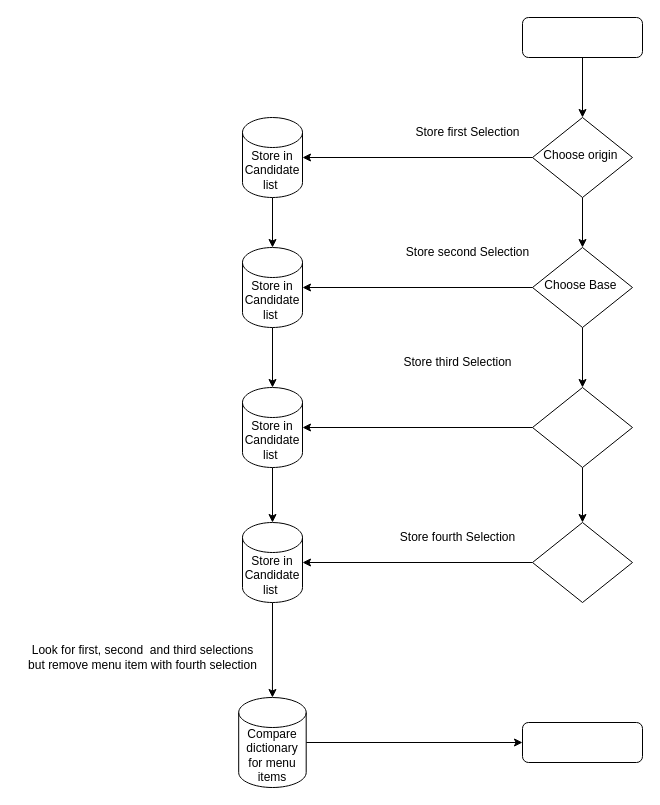
This 660x805 diagram has some shape labels left out. Each missing label, with the centre of its shape:
Any Allergy: (x=582, y=562)
Choose Protein: (x=582, y=427)
Return Menu Item : End: (x=582, y=742)
Selection Process : Start: (x=582, y=37)
